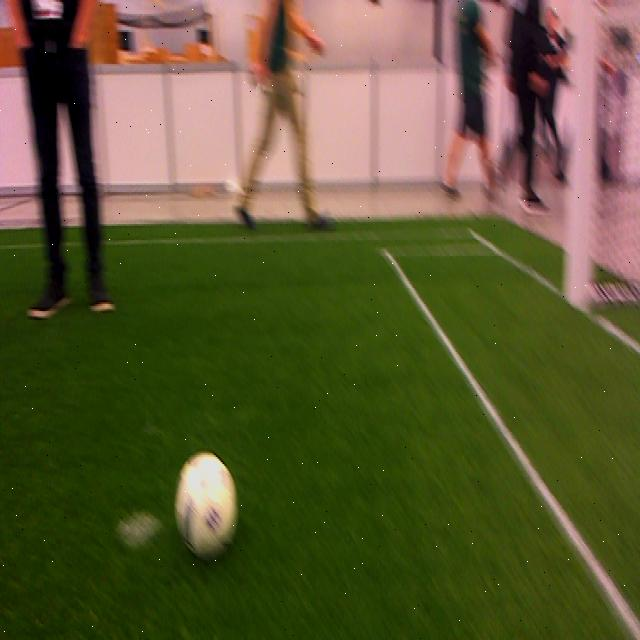ball: (173, 455, 236, 558)
goalpost: (566, 11, 602, 311)
